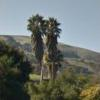Palm tree: (21, 6, 75, 66)
